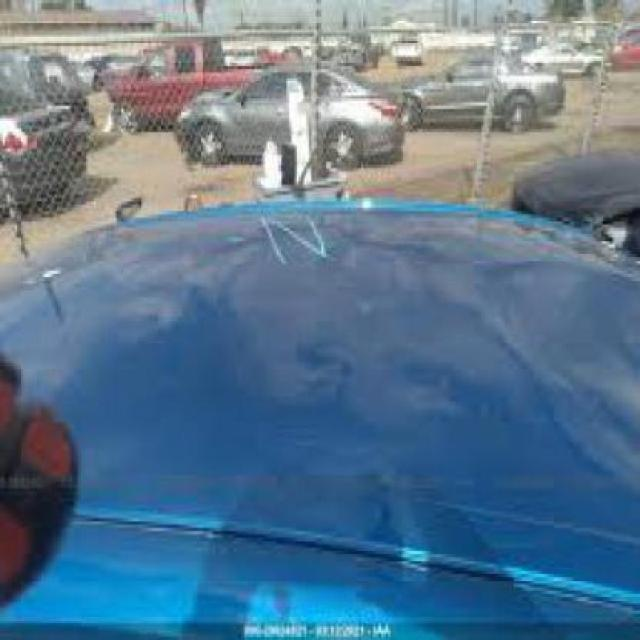paint-trace: (251, 208, 347, 268)
